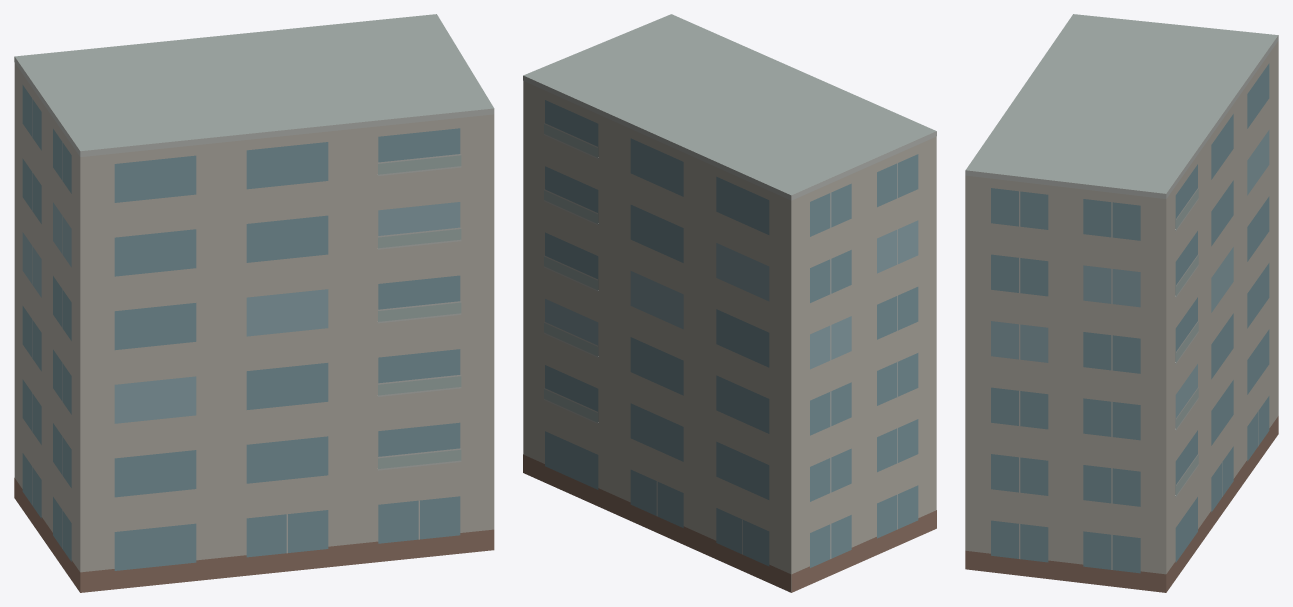
The model's file is survey-upis-33020390.glb.
3 renders of one model, left to right at view 1: azimuth 30°, elevation 25°; view 2: azimuth 150°, elevation 25°; view 3: azimuth 270°, elevation 25°, orthographic. The views are drawn at different scales.
Visible parts, largest first — view 1: survey-upis-33020390.tmp; view 2: survey-upis-33020390.tmp; view 3: survey-upis-33020390.tmp.
Part boxes in pixels (x1=…): survey-upis-33020390.tmp: x1=14, y1=14, x2=494, y2=592; survey-upis-33020390.tmp: x1=523, y1=14, x2=936, y2=592; survey-upis-33020390.tmp: x1=965, y1=14, x2=1278, y2=592.
Size of the model in its own units: 17.7 by 18.3 by 13.02.
